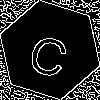C: (25, 25, 75, 80)
